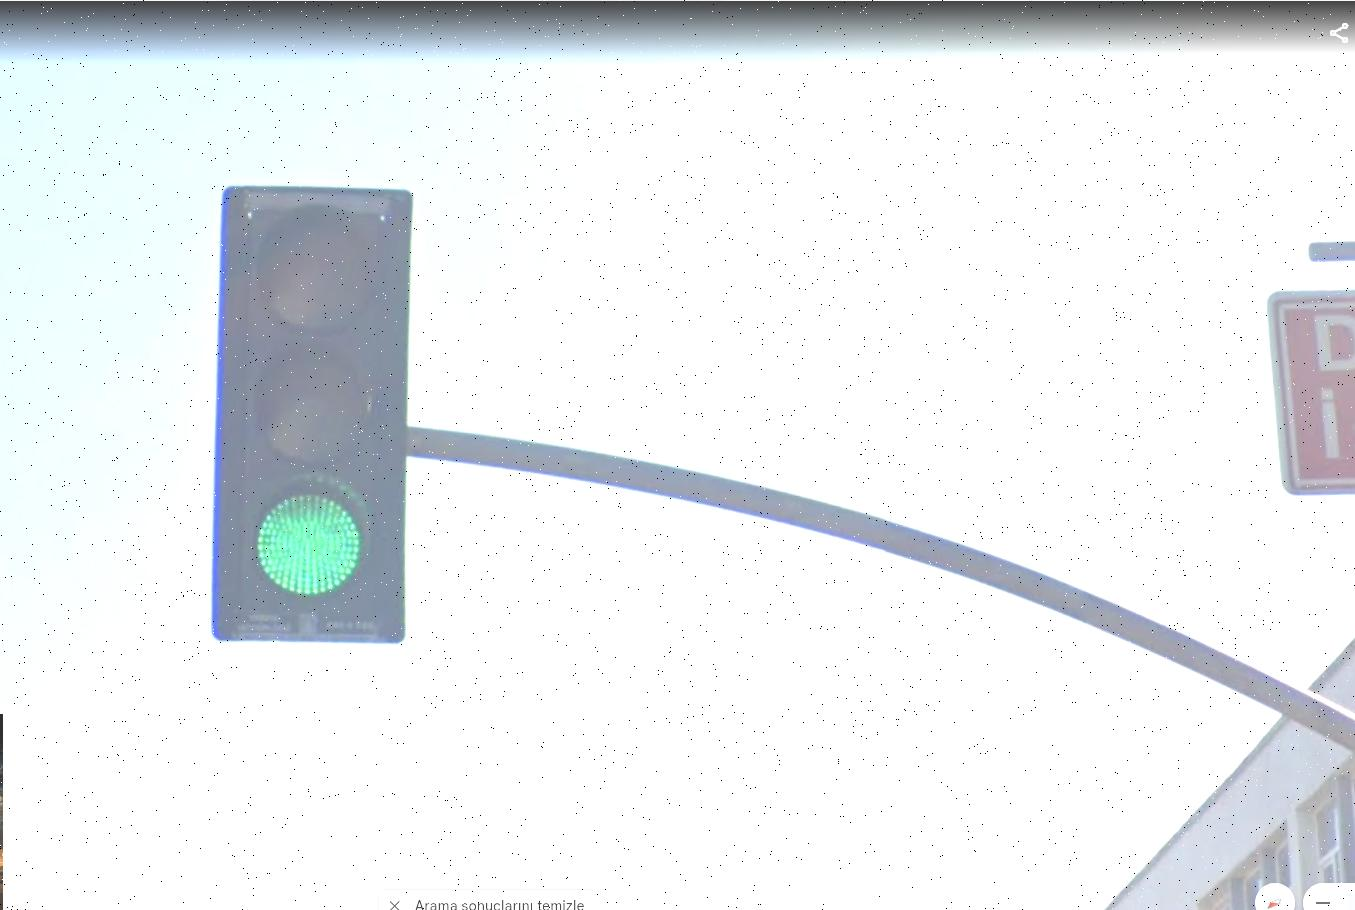greenlight: (218, 190, 408, 644)
